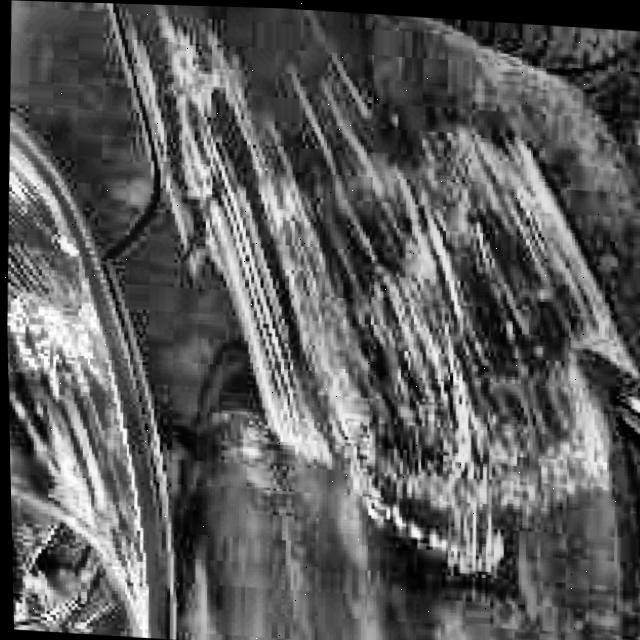bumper_scratch: (107, 8, 640, 582)
